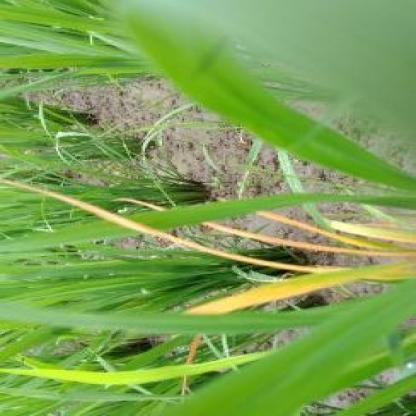Tungro: (190, 257, 416, 315)
